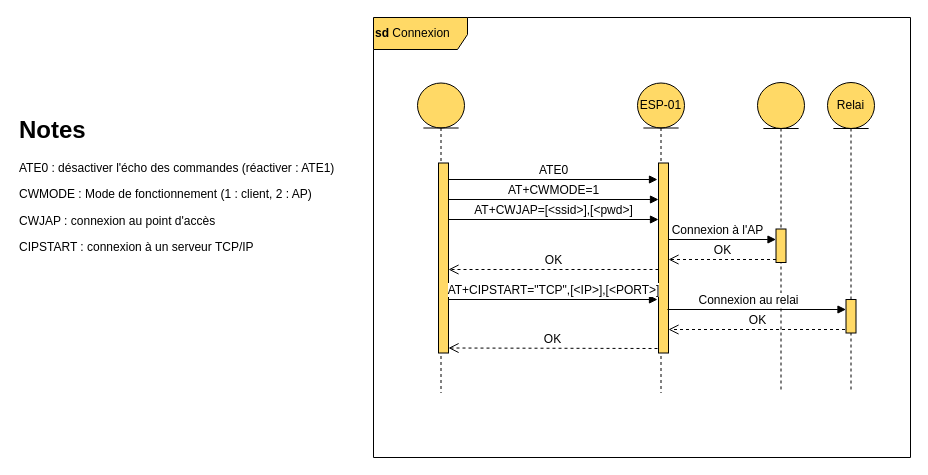
Some shapes in this 928 by 475 pixel diagram are drawn without their labels. Each missing label, with the centre of its shape:
AP: the point at 780,237
Arduino: the point at 440,237
